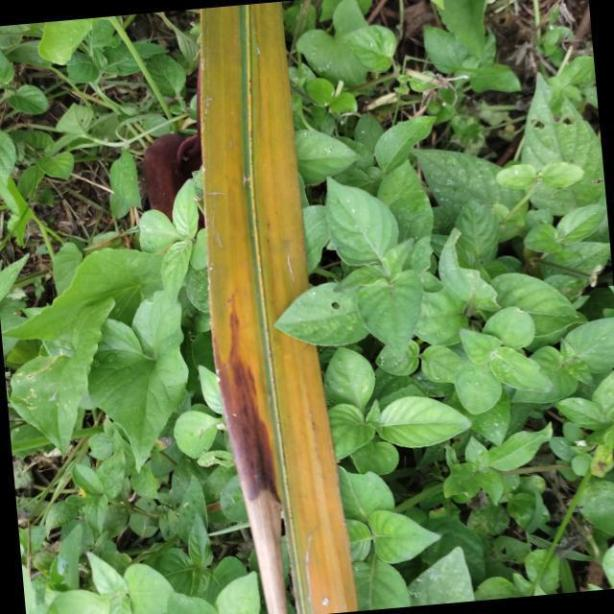Megnesium: (197, 3, 355, 614)
